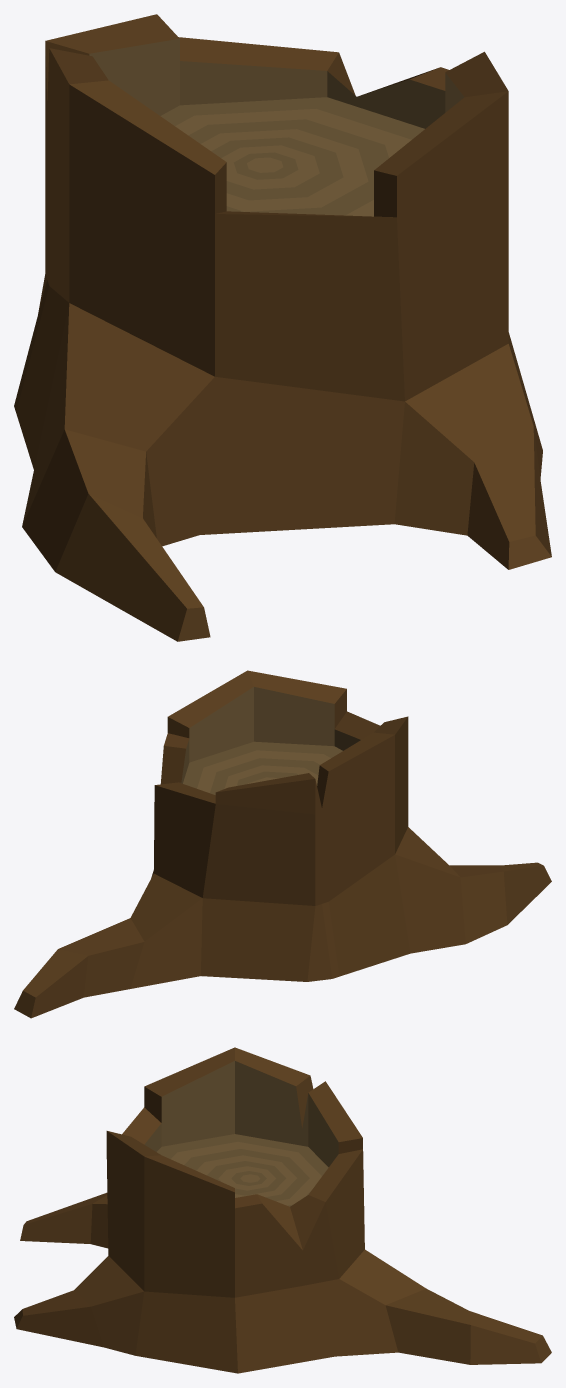
Rendered from stump.fbx.
3 views of the same model, one above another, from view 1: azimuth 30°, elevation 25°; view 2: azimuth 150°, elevation 25°; view 3: azimuth 270°, elevation 25° (orthographic). The views are drawn at different scales.
Visible parts, largest first — view 1: Tree Stump; view 2: Tree Stump; view 3: Tree Stump.
Part boxes in pixels (x1,y1,x2,y2): Tree Stump: (14, 14, 551, 641); Tree Stump: (14, 670, 551, 1018); Tree Stump: (14, 1047, 551, 1373).
Bounding box in the file's own units: 134 × 91.29 × 210.
